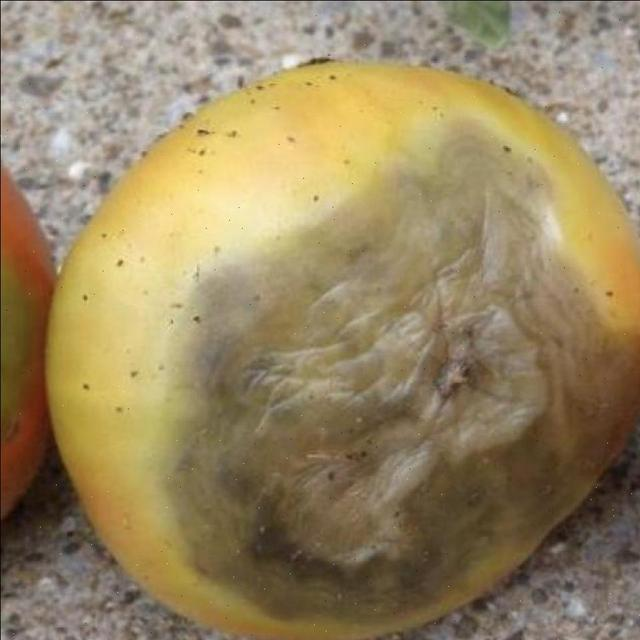Blossom End Rot Fruit: (113, 86, 418, 418)
